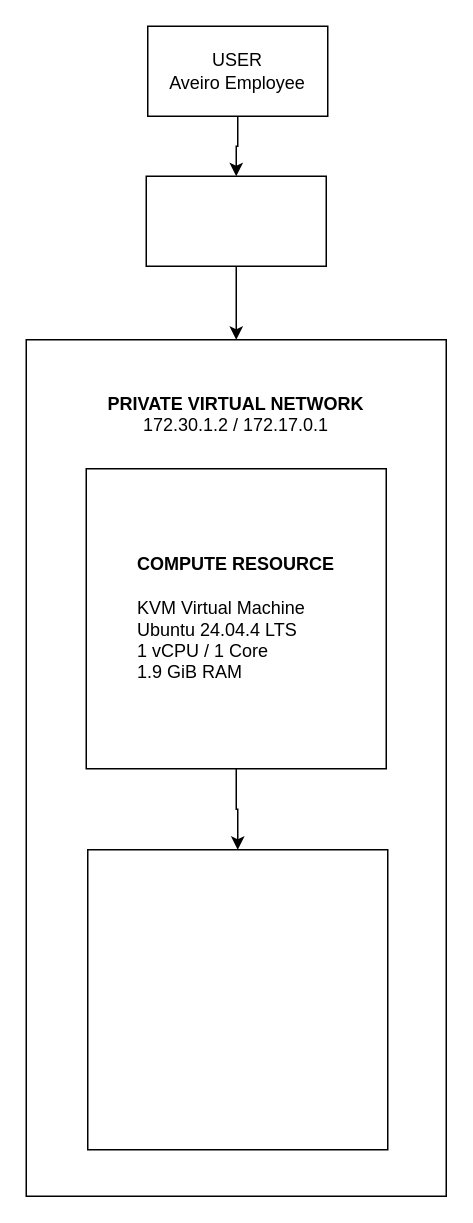
The diagram is 473 pixels wide and 1223 high, and some of its shapes have lost their labels. The centre of each missing label's shape, as x and y in pixels:
"INTERNET Conection" belongs at (235,220).
"STORAGE RESOURCE /dev/vda 20 GB Virtual Disk /dev/vda1 19 GB Root" belongs at (237,999).
